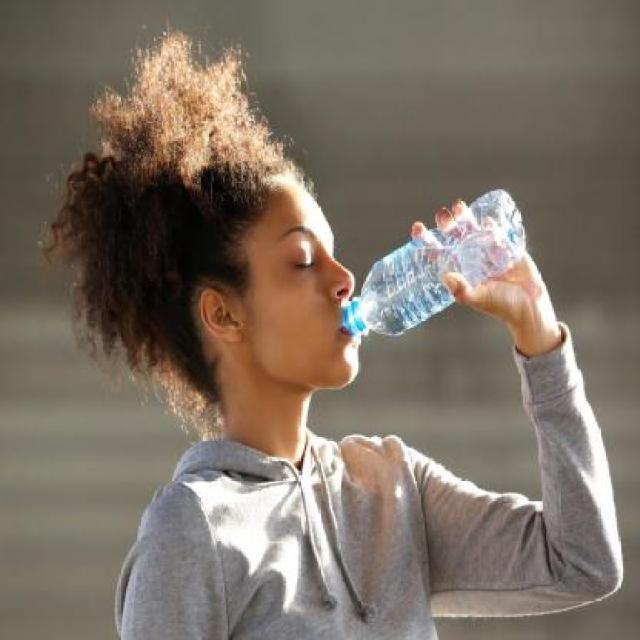Drinking: (338, 192, 534, 341)
